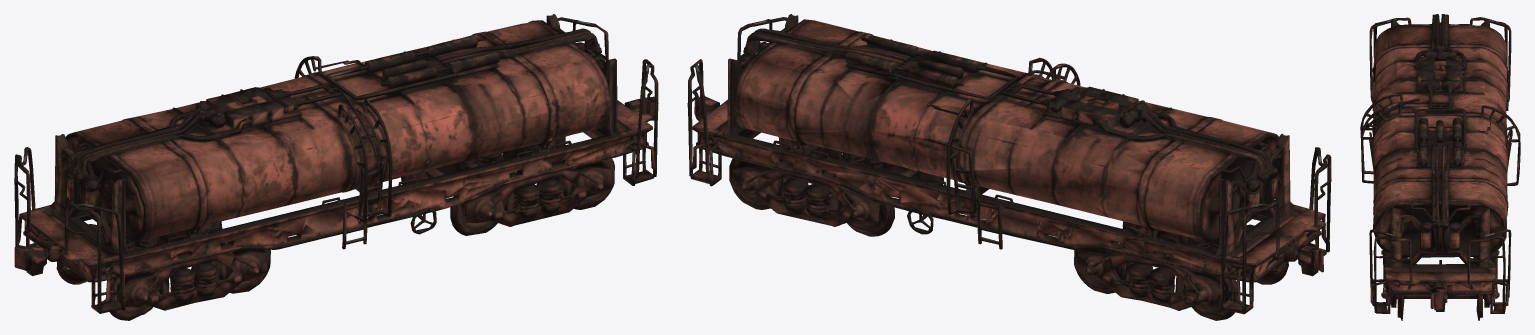
The model's file is rail_tanker.glb.
3 renders of one model, left to right at view 1: azimuth 30°, elevation 25°; view 2: azimuth 150°, elevation 25°; view 3: azimuth 270°, elevation 25°, orthographic. The views are drawn at different scales.
Parts seen in each view (by area): view 1: rail_tanker; view 2: rail_tanker; view 3: rail_tanker.
Part boxes in pixels (x1,y1,x2,y2): rail_tanker: (14, 14, 658, 320); rail_tanker: (687, 14, 1331, 320); rail_tanker: (1360, 14, 1520, 320).
Bounding box in the file's own units: 190 × 48.63 × 52.94.
1 material, 1 textured.
